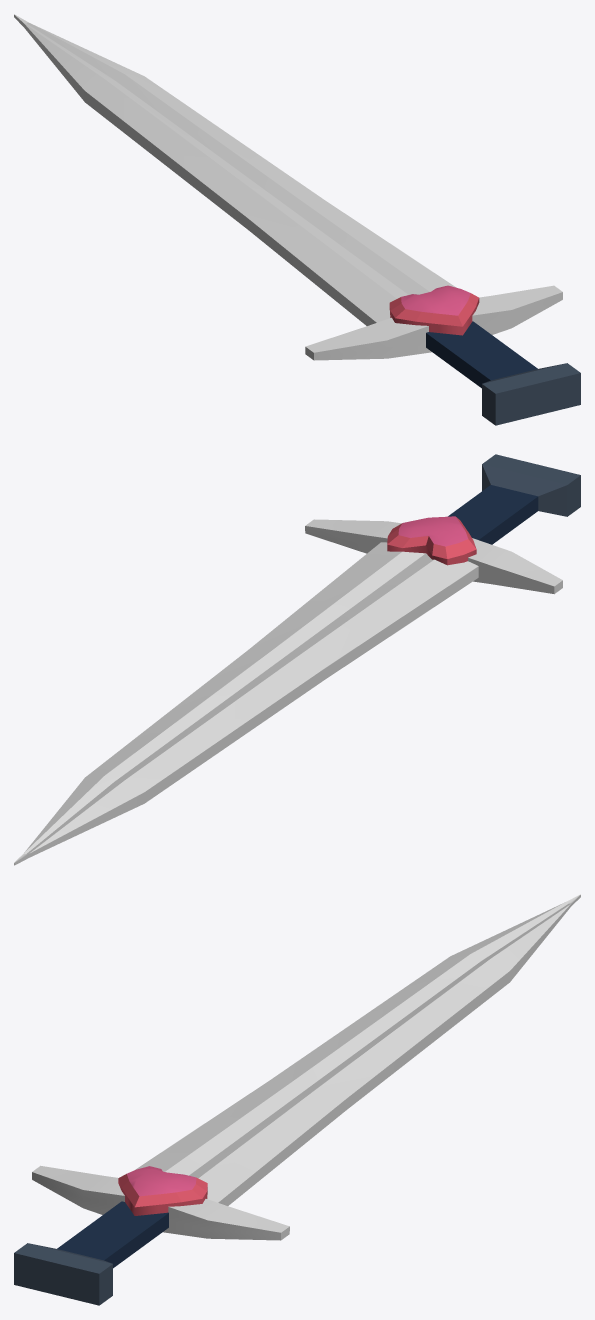
Rendered from Sword.fbx.
The picture shows the model from 3 angles, top to bottom: view 1: azimuth 30°, elevation 25°; view 2: azimuth 150°, elevation 25°; view 3: azimuth 330°, elevation 25°; orthographic projection.
Parts seen in each view (by area): view 1: pCube1, pCube3, pCube2, pCube4; view 2: pCube1, pCube3, pCube2, pCube4; view 3: pCube1, pCube3, pCube2, pCube4.
Boxes of the visible parts, left/top/right/bottom form: pCube1: left=14, top=14, right=455, bottom=325; pCube3: left=426, top=321, right=580, bottom=425; pCube2: left=305, top=285, right=562, bottom=360; pCube4: left=389, top=285, right=479, bottom=335; pCube1: left=14, top=542, right=478, bottom=865; pCube3: left=448, top=454, right=580, bottom=544; pCube2: left=305, top=519, right=562, bottom=594; pCube4: left=387, top=516, right=476, bottom=565; pCube1: left=134, top=894, right=580, bottom=1205; pCube3: left=14, top=1201, right=168, bottom=1305; pCube2: left=32, top=1165, right=289, bottom=1240; pCube4: left=118, top=1166, right=207, bottom=1215.
Size of the model in its own units: 2.52 by 0.4199 by 9.17.
